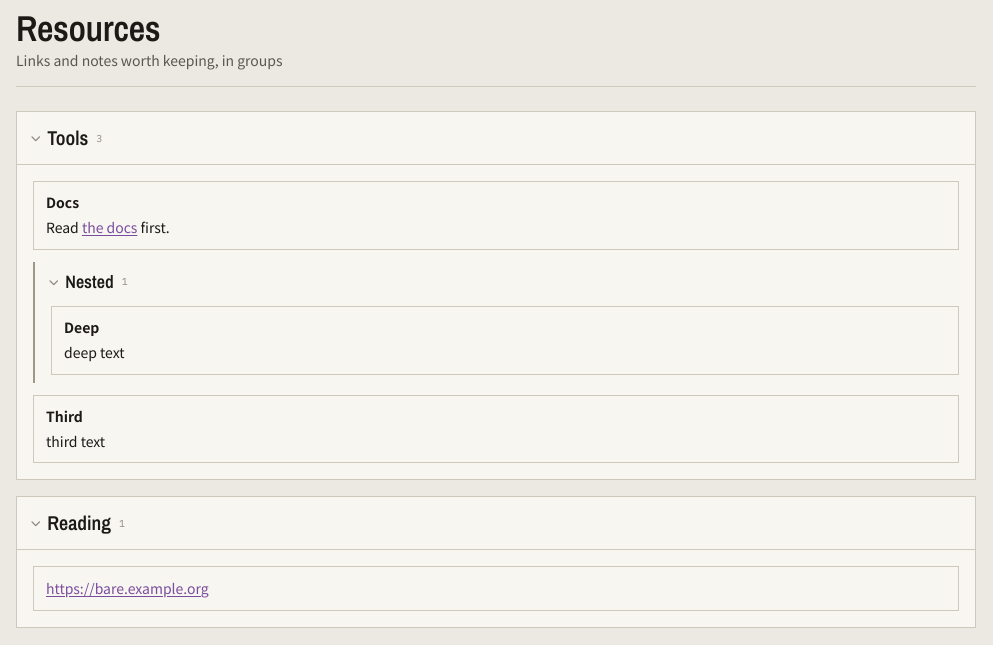
Test: Resources - reading › collapses a group
Check: the text "Docs" is shown, box left=46, top=192, right=79, bottom=212
Click the button "Tools 3" at (68, 138), box left=33, top=124, right=959, bottom=152
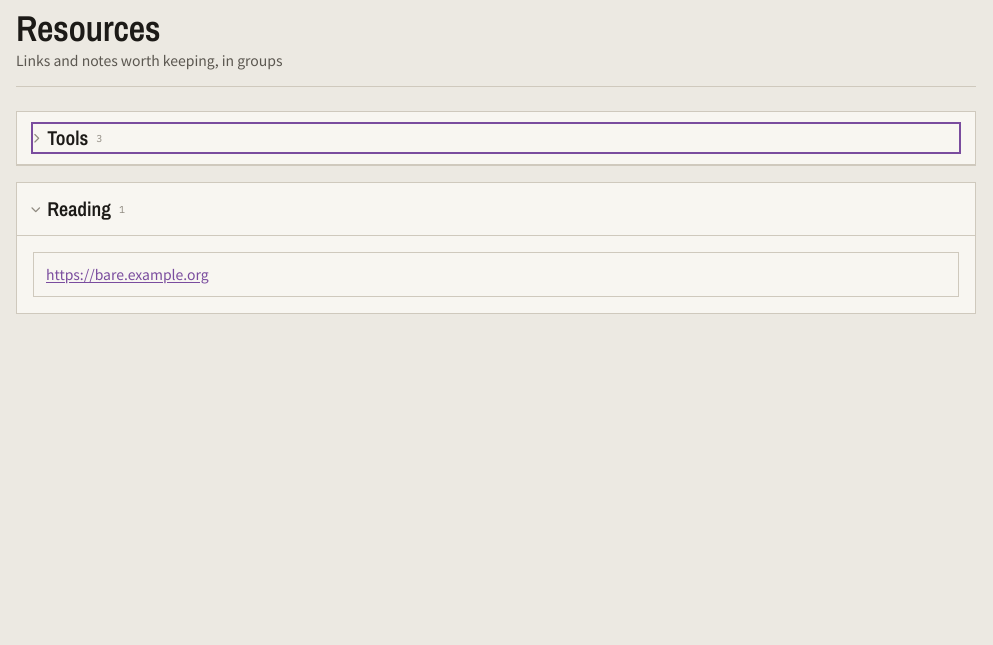
Check: the text "Docs" is gone
